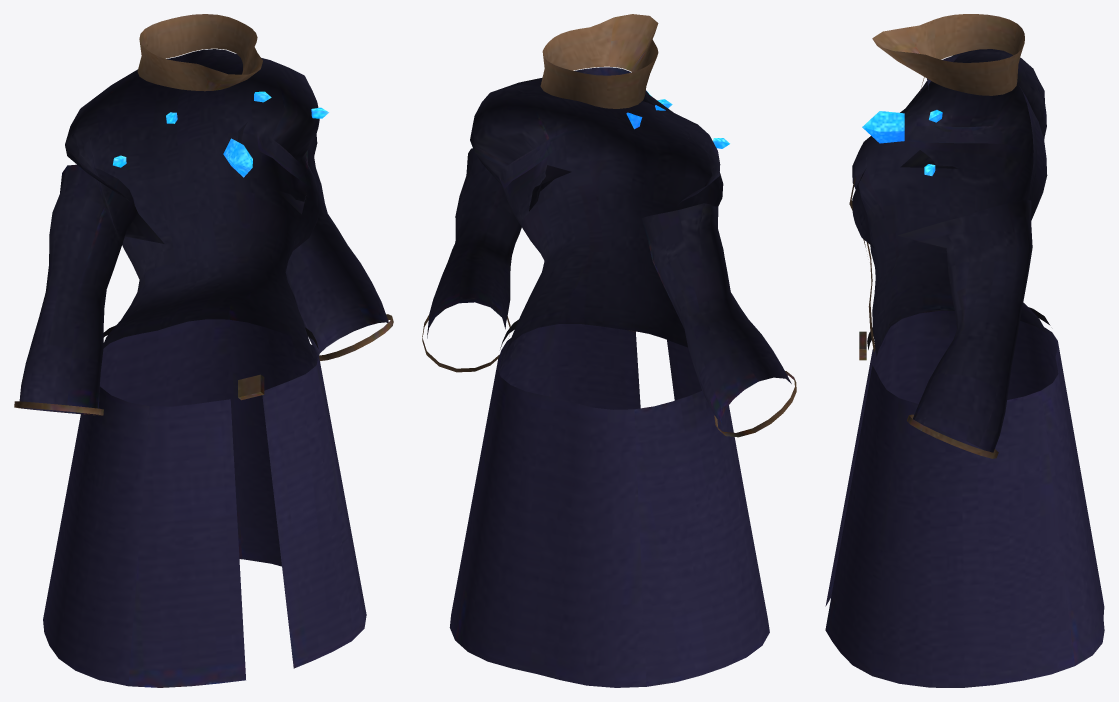
Rendered from Peitoral_de_Tecido_Arcano_nivel100.glb.
The picture shows the model from 3 angles, left to right: view 1: azimuth 30°, elevation 25°; view 2: azimuth 150°, elevation 25°; view 3: azimuth 270°, elevation 25°; orthographic projection.
Visible parts, largest first — view 1: peitoral_de_tecido_arcano_nivel100; view 2: peitoral_de_tecido_arcano_nivel100; view 3: peitoral_de_tecido_arcano_nivel100.
Boxes of the visible parts, x1,y1,x2,y2 form: peitoral_de_tecido_arcano_nivel100: (14, 14, 393, 687); peitoral_de_tecido_arcano_nivel100: (422, 14, 796, 687); peitoral_de_tecido_arcano_nivel100: (825, 14, 1104, 687).
Size of the model in its own units: 0.7031 by 1.07 by 0.465.
Materials: 1 (1 with a texture image).
